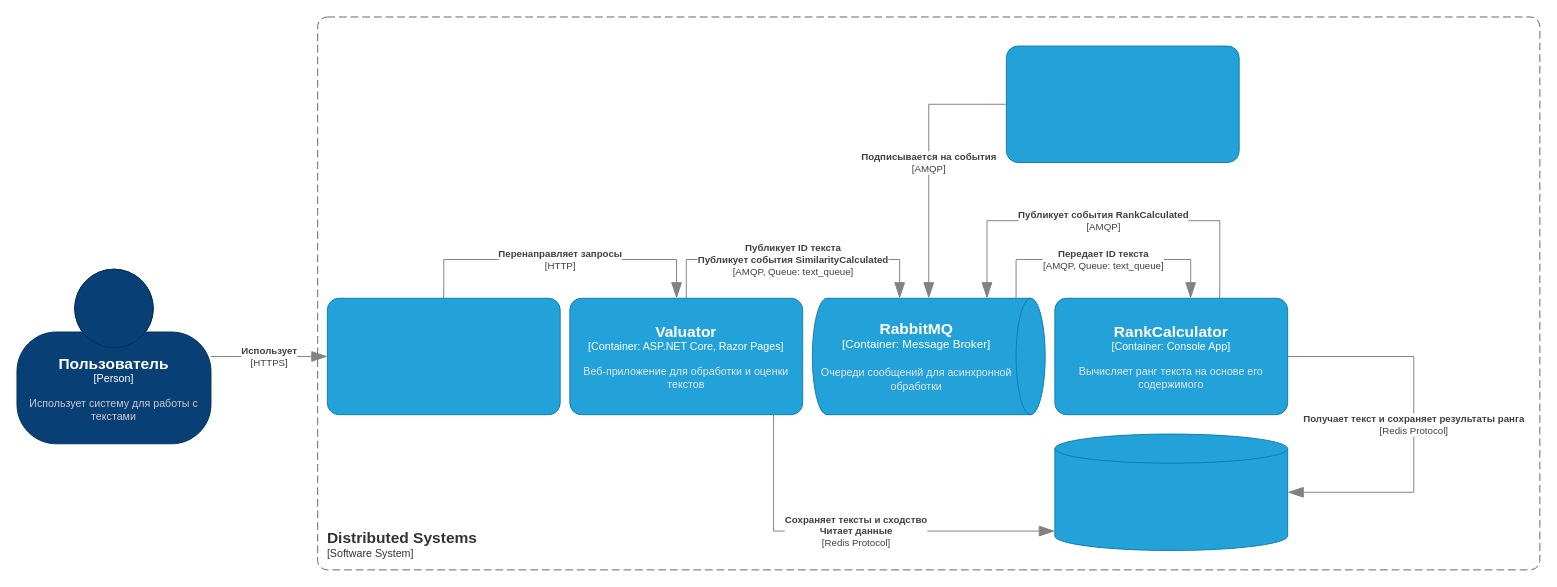
The diagram is 1557 pixels wide and 587 high, and some of its shapes have lost their labels. Here are the shapes that lost their labels. From the top down, the centre of each, then its label:
the point at 1122,103: EventsLogger [Container: Console App] Логирует события от других сервисов
the point at 443,356: Nginx [Container: Web Server] Веб-сервер и обратный прокси
the point at 1171,491: Redis [Container: Key-Value Store] Хранит тексты, результаты сходства и ранги
